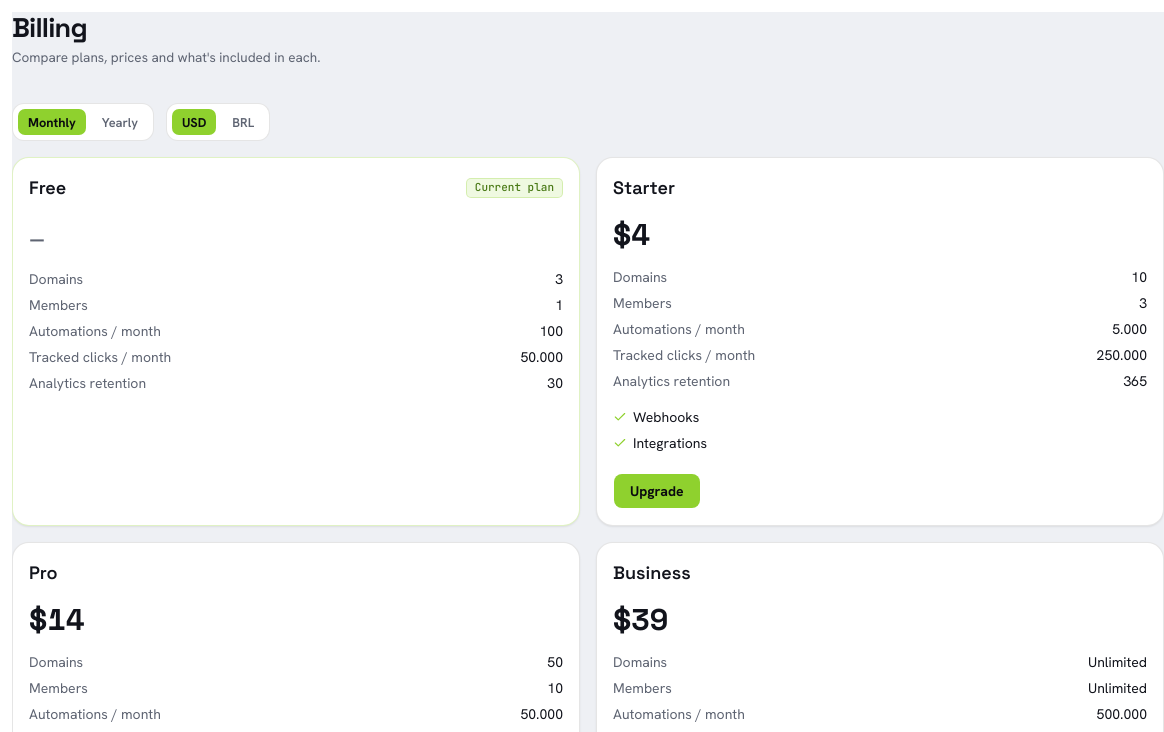
Billing › renders the five plan cards and marks the current one
The width and height of the screenshot is (1164, 732).
Expected: the heading "Free" is shown, [29, 174, 66, 202]
Expected: the heading "Starter" is shown, [613, 174, 675, 202]
// Switching the currency toggle to BRL re-renders the same price in reais.
Click the button "BRL" at coordinates (243, 122), box [221, 108, 265, 136]
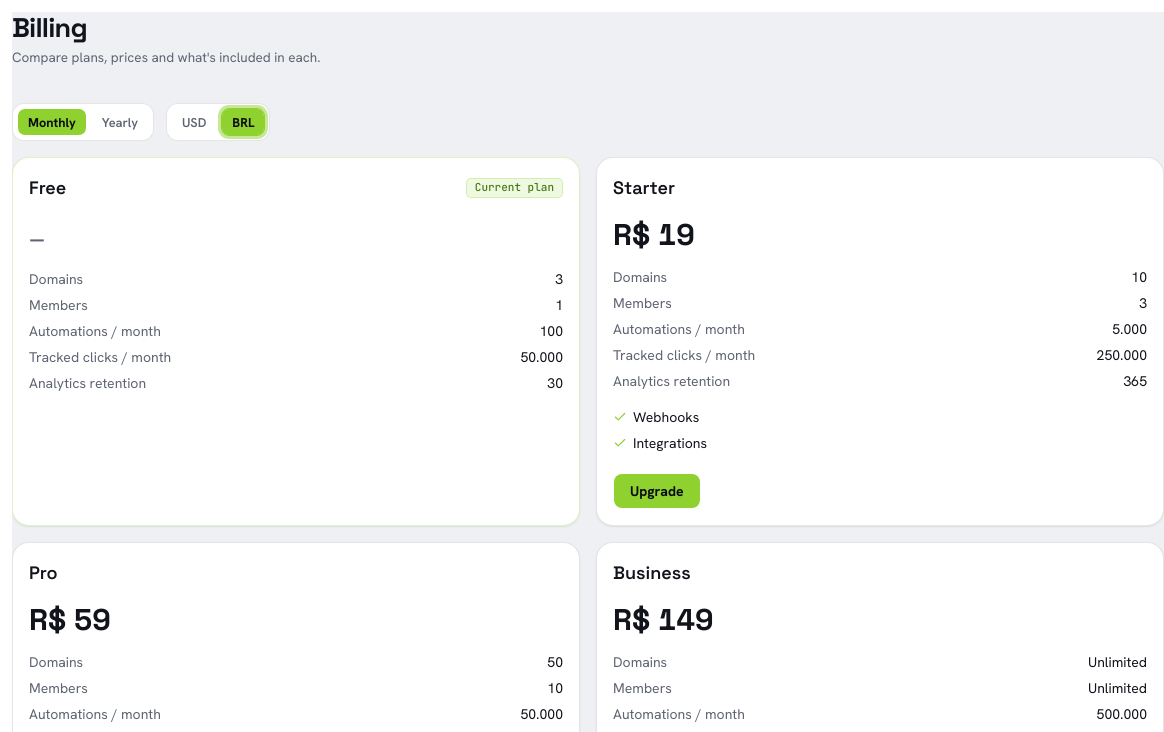
Expected: the text "R$ 19" is shown, [613, 215, 695, 254]
